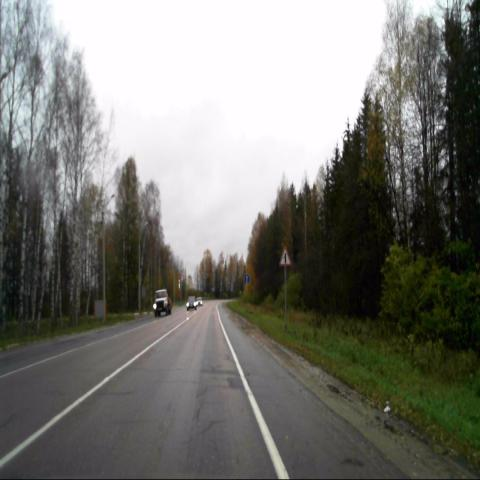2_3_3: (278, 244, 292, 268)
